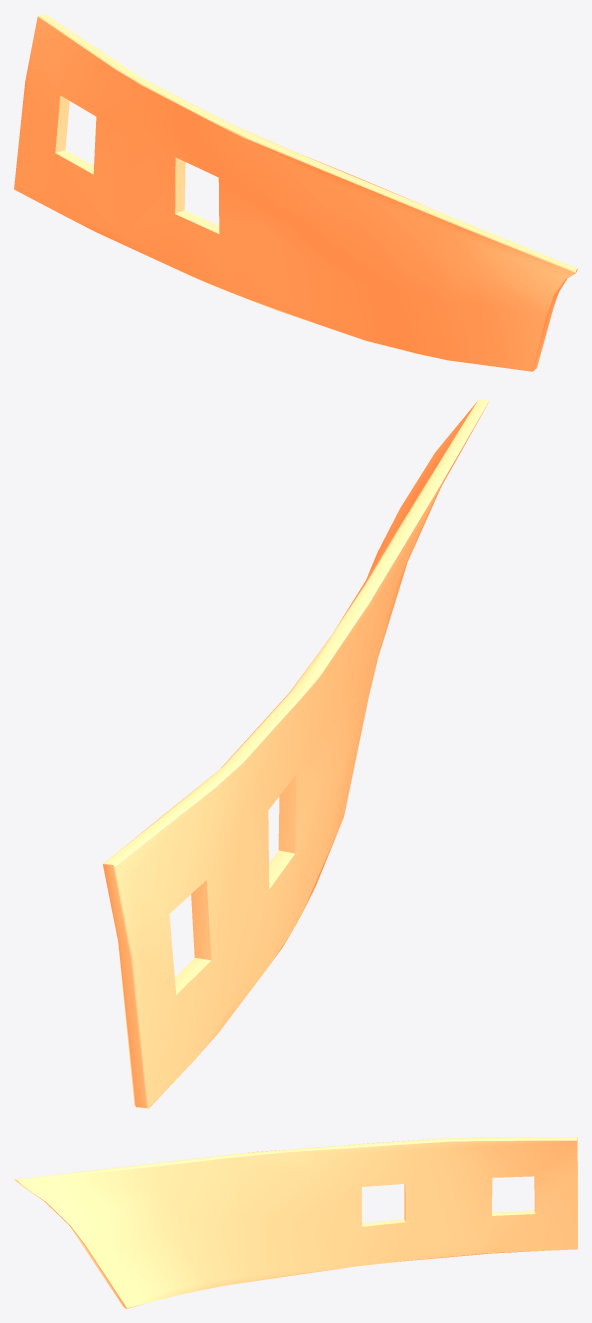
File: SM_Wall_CannonStern01.fbx
The picture shows the model from 3 angles, top to bottom: view 1: azimuth 30°, elevation 25°; view 2: azimuth 150°, elevation 25°; view 3: azimuth 270°, elevation 25°; orthographic projection. The views are drawn at different scales.
Visible parts, largest first — view 1: SM_Wall_CannonStern01_LOD0; view 2: SM_Wall_CannonStern01_LOD0; view 3: SM_Wall_CannonStern01_LOD0.
Part boxes in pixels (box(x1,y1,x2,y2)): SM_Wall_CannonStern01_LOD0: box(14, 14, 577, 371); SM_Wall_CannonStern01_LOD0: box(103, 400, 488, 1108); SM_Wall_CannonStern01_LOD0: box(14, 1137, 577, 1308).
Size of the model in its own units: 375 by 1302 by 311.
